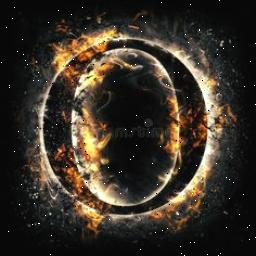o: (27, 30, 221, 222)
